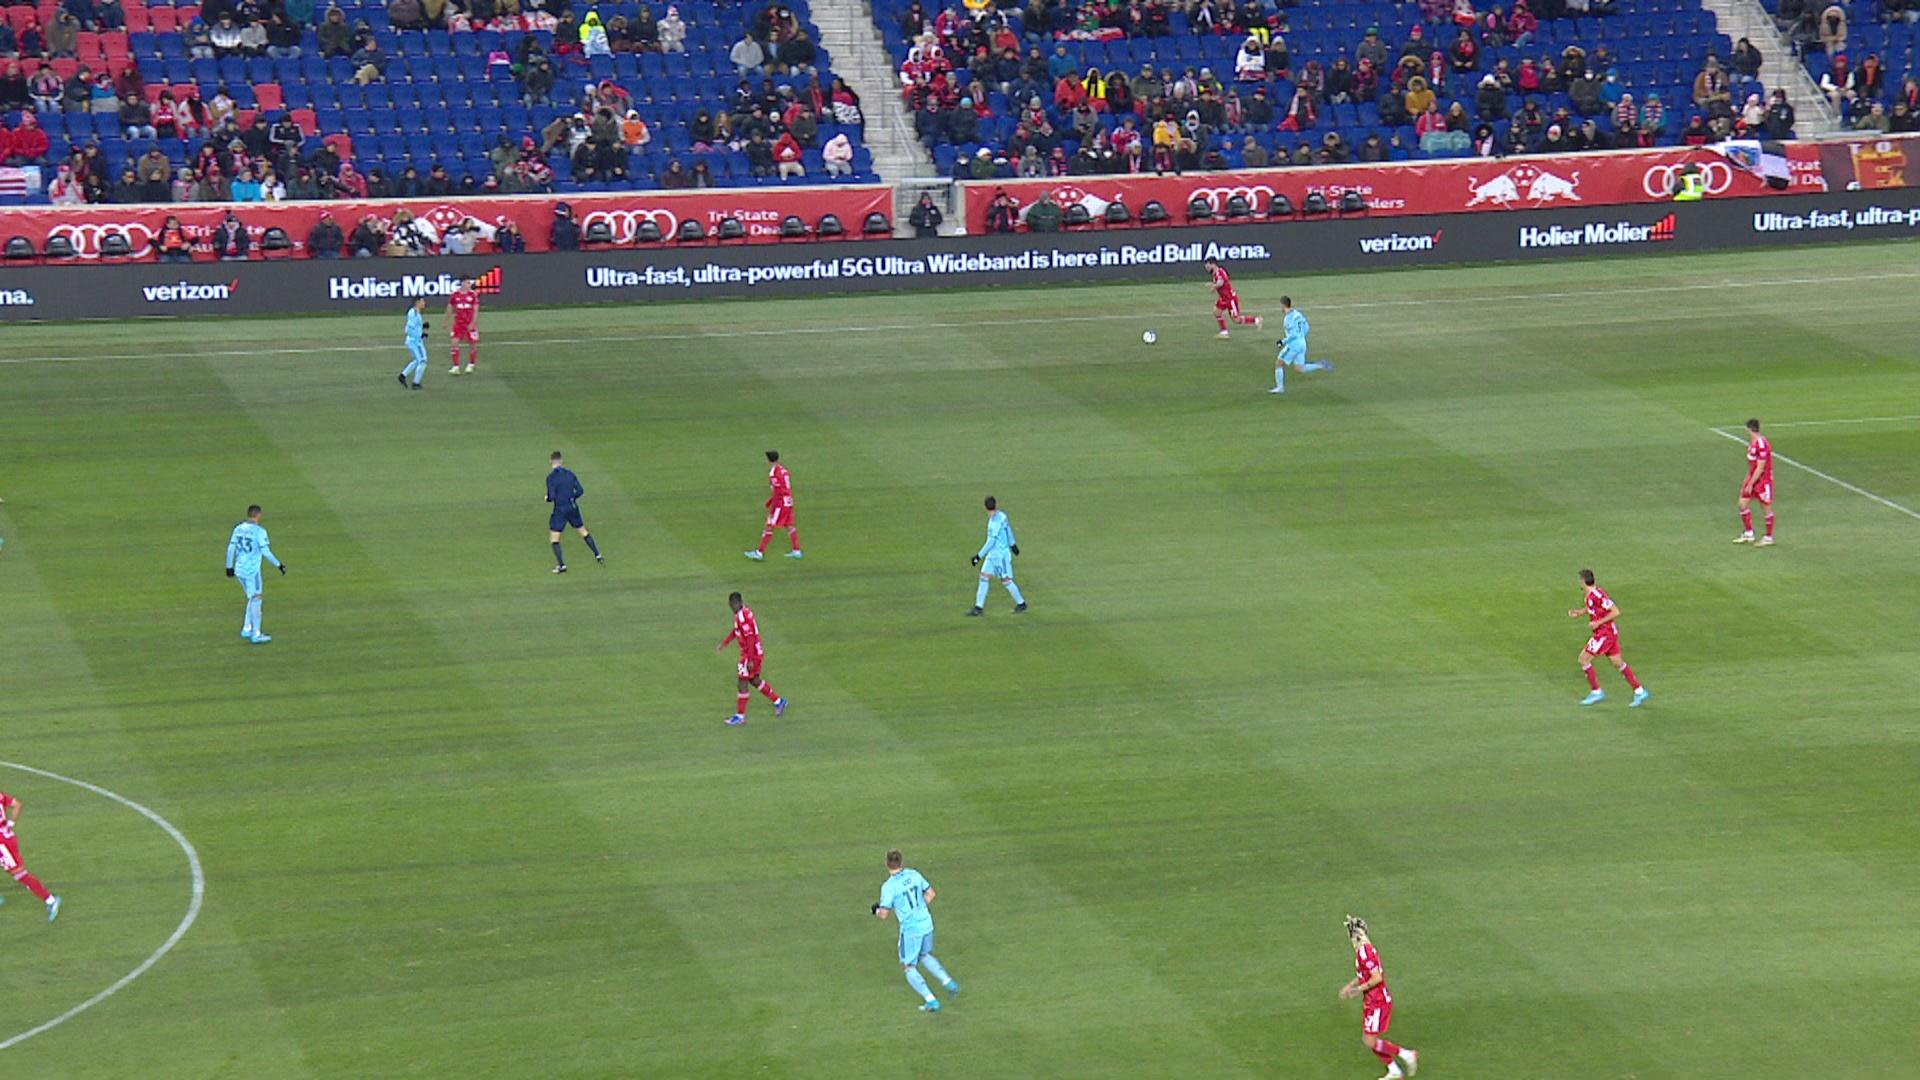football: (1142, 329, 1157, 345)
